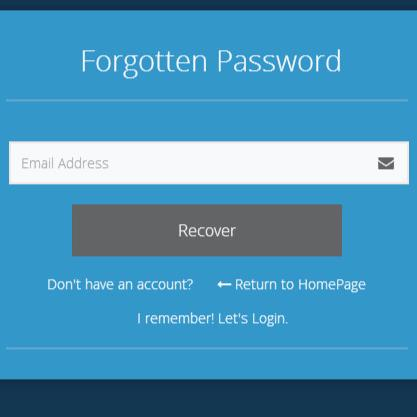button: (71, 203, 343, 257)
field: (7, 141, 411, 186)
